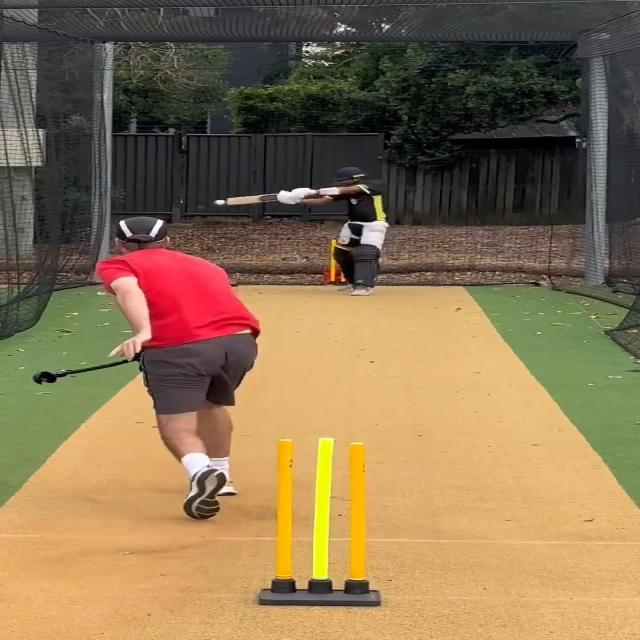stump: (260, 435, 382, 606)
